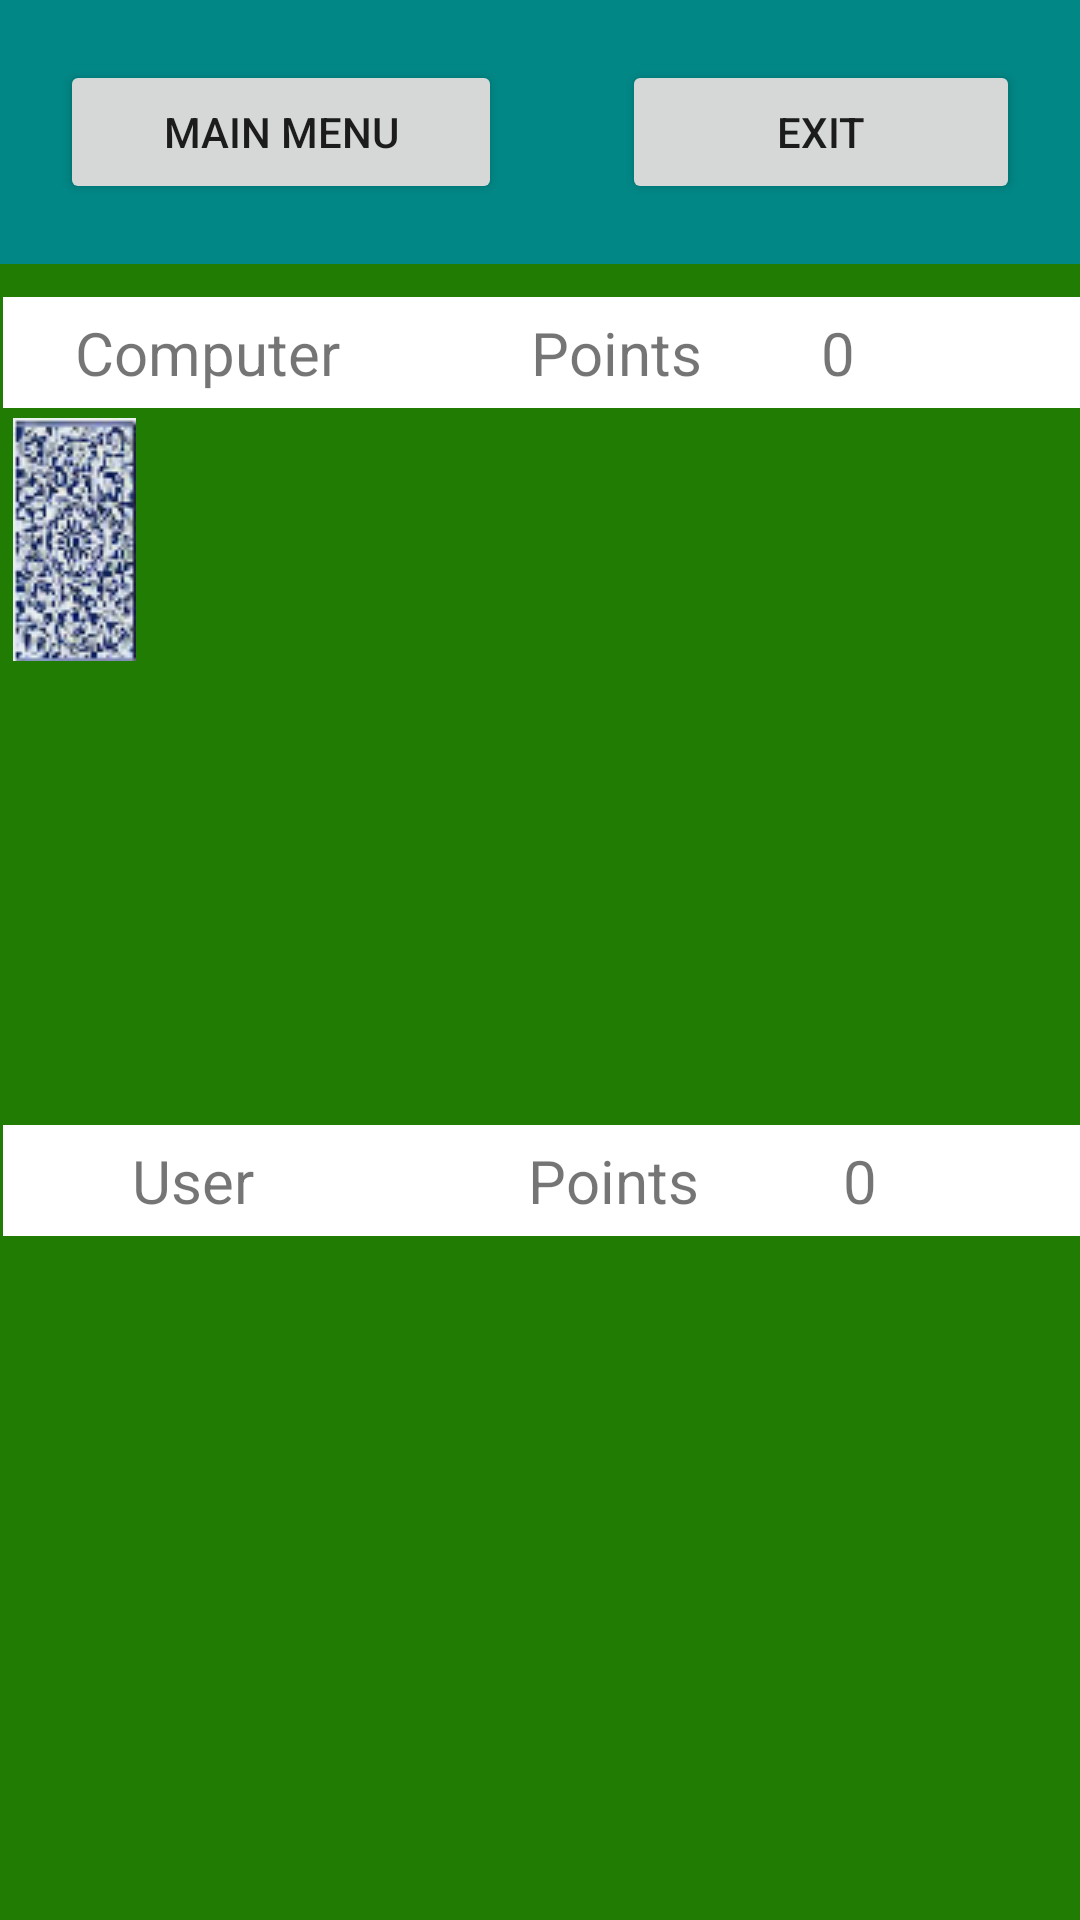

Screen size 1080px×1920px. Icon name, then its center in pixels as [x,y]:
card back: [74,539]
